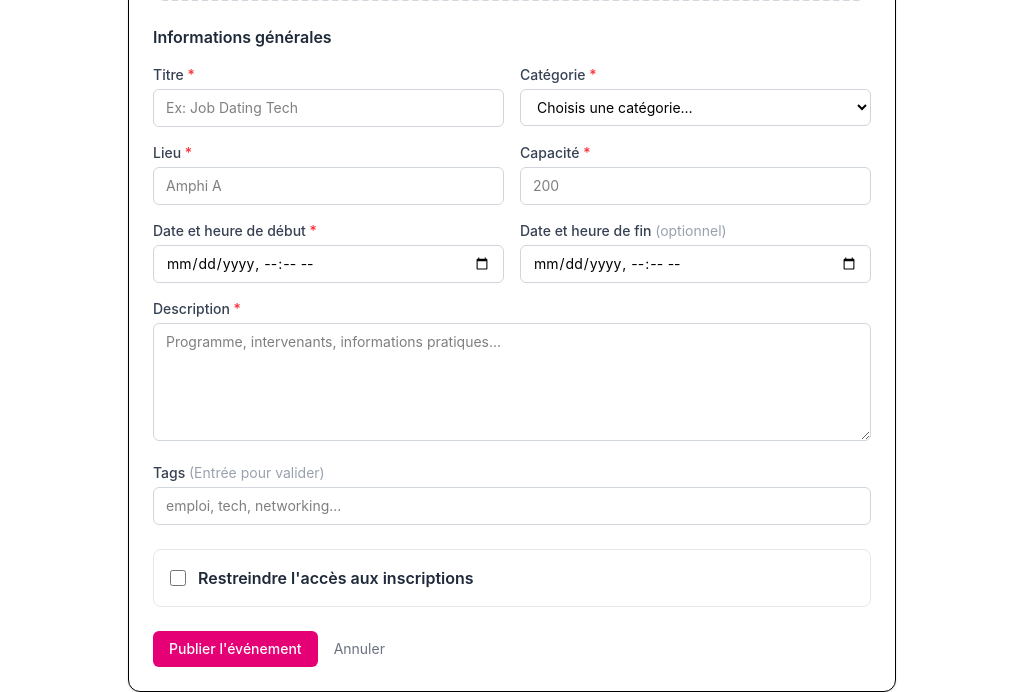
EventCreatePage › displays error when title is missing
This screenshot has width=1024, height=692.
(page scrolled)
Click the button "Publier l'événement" at (235, 649), box [153,631,318,667]
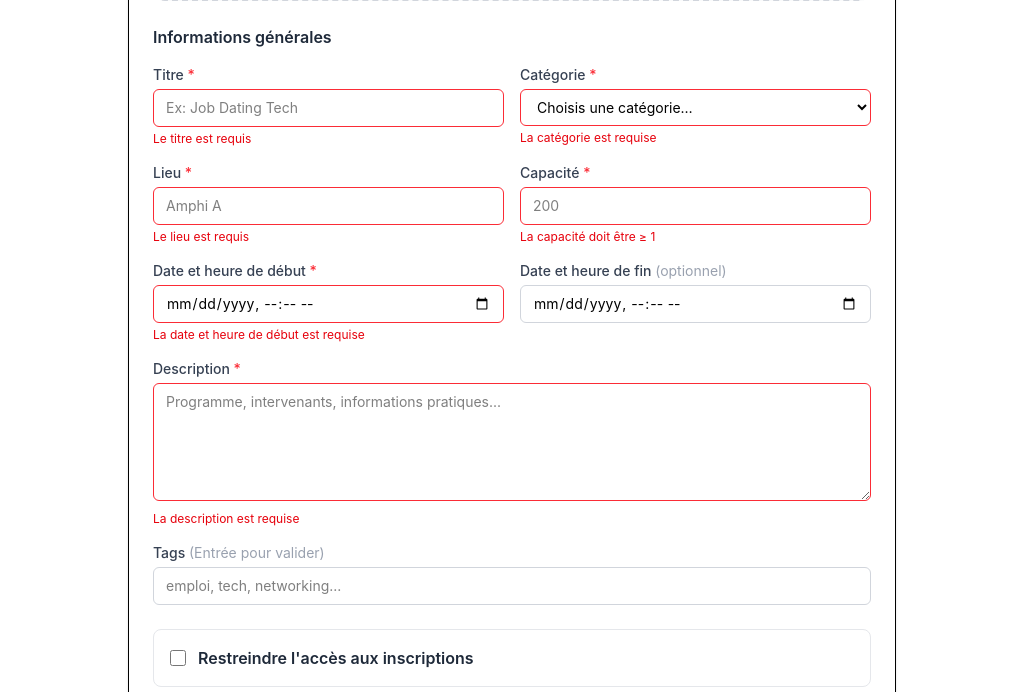
Check: the text "Le titre est requis" is shown, box [153,131,251,146]
